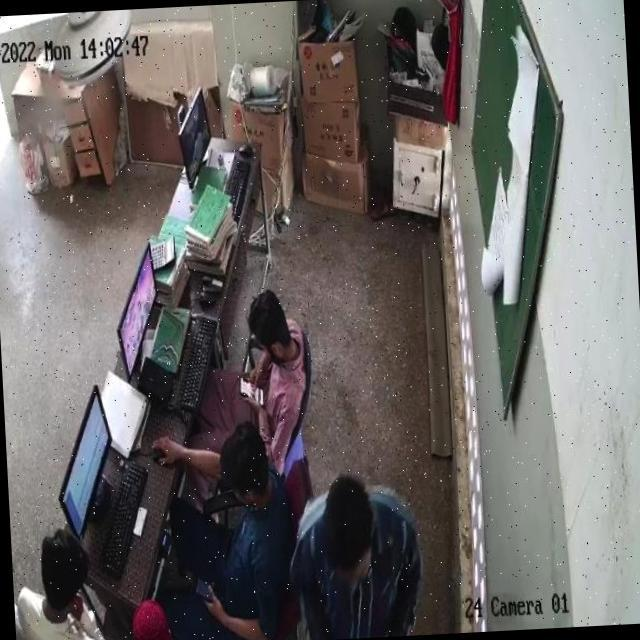person: (178, 438, 291, 636), (298, 473, 423, 640), (196, 306, 308, 465), (18, 534, 105, 640), (122, 604, 220, 640), (9, 510, 36, 640)
